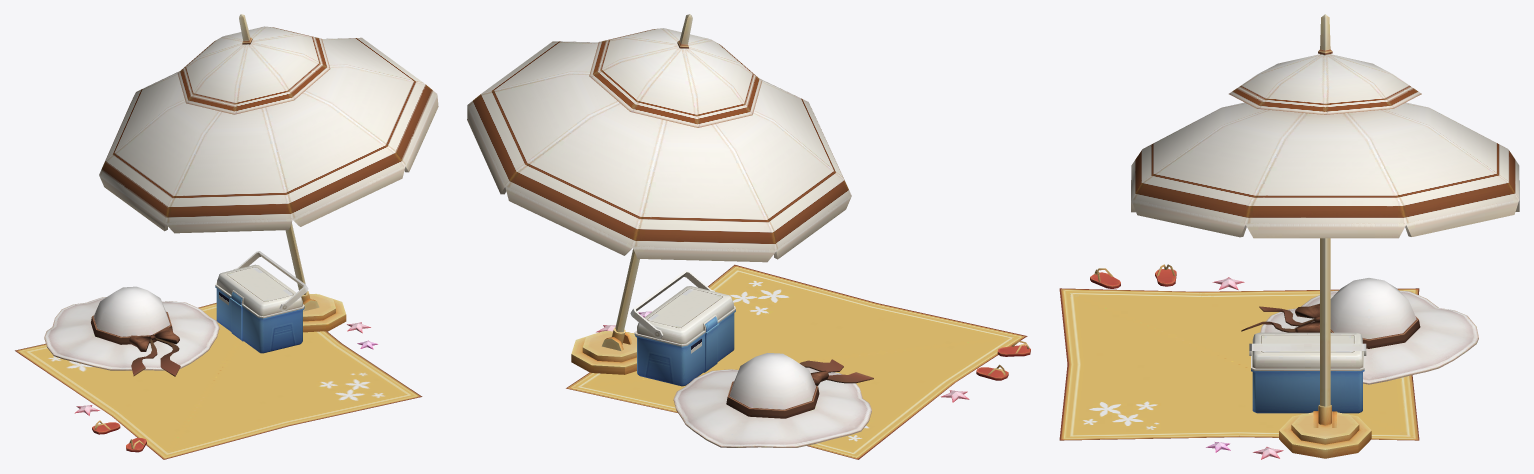
The model's file is my_ariussummer_01_picnicset_01.glb.
The picture shows the model from 3 angles, left to right: view 1: azimuth 30°, elevation 25°; view 2: azimuth 150°, elevation 25°; view 3: azimuth 270°, elevation 25°; orthographic projection. The views are drawn at different scales.
Visible parts, largest first — view 1: my_ariussummer_01_picnicset_01; view 2: my_ariussummer_01_picnicset_01; view 3: my_ariussummer_01_picnicset_01.
Boxes of the visible parts, bbox=[...] form: my_ariussummer_01_picnicset_01: bbox=[15, 14, 438, 459]; my_ariussummer_01_picnicset_01: bbox=[467, 14, 1030, 459]; my_ariussummer_01_picnicset_01: bbox=[1059, 14, 1519, 459].
Bounding box in the file's own units: 0.0176 × 0.0142 × 0.0154.
1 material, 1 textured.
